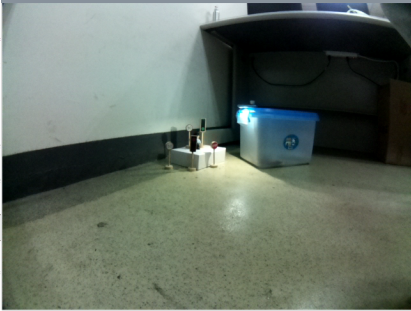Green: (198, 116, 208, 134)
Red: (187, 134, 197, 157)
Stop: (210, 139, 219, 149)
